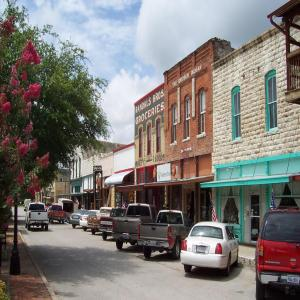Vehicle-registration-plate: (288, 276, 300, 285), (198, 247, 206, 255)
